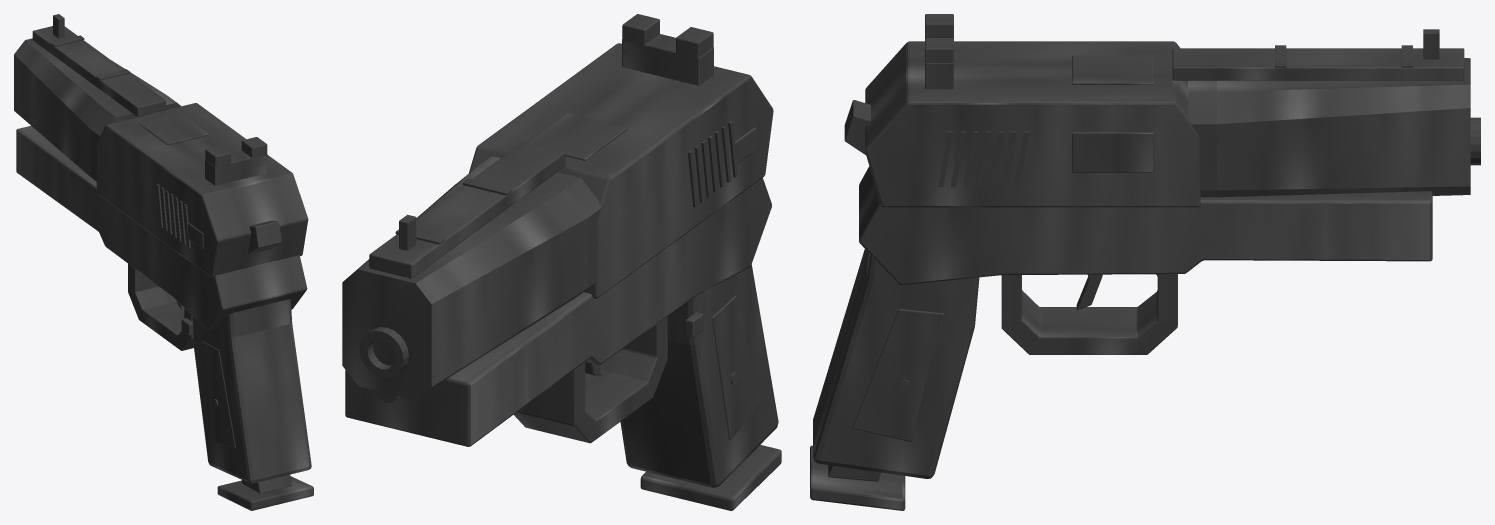
The model's file is deagle.glb.
The picture shows the model from 3 angles, left to right: view 1: azimuth 30°, elevation 25°; view 2: azimuth 150°, elevation 25°; view 3: azimuth 270°, elevation 25°; orthographic projection. The views are drawn at different scales.
Visible parts, largest first — view 1: deagle_Body, deagle_Slide, deagle_Magazine; view 2: deagle_Body, deagle_Slide, deagle_Magazine; view 3: deagle_Body, deagle_Slide, deagle_Magazine.
Part boxes in pixels (x1,y1,x2,y2): deagle_Body: (14,14,311,483); deagle_Slide: (96,103,308,277); deagle_Magazine: (217,474,313,510); deagle_Body: (342,113,778,487); deagle_Slide: (468,14,773,298); deagle_Magazine: (640,445,781,510); deagle_Body: (813,29,1480,478); deagle_Slide: (865,14,1200,207); deagle_Magazine: (810,445,905,510).
Bounding box in the file's own units: 0.1199 × 0.3997 × 0.529.
3 materials, 3 textured.
